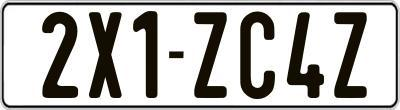1: (130, 8, 156, 96)
2: (42, 12, 80, 104)
4: (285, 10, 322, 96)
C: (238, 10, 276, 101)
X: (88, 12, 126, 103)
Z: (193, 11, 229, 103), (334, 11, 368, 103)
